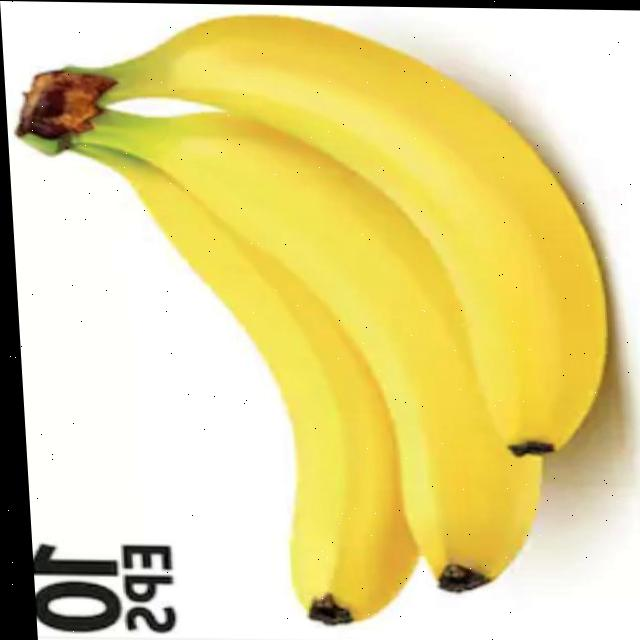banana: (5, 13, 636, 631)
